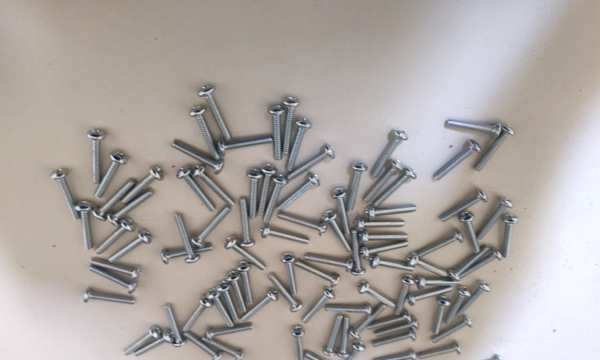longscrew: (432, 141, 480, 189), (175, 165, 216, 217), (88, 178, 137, 219), (117, 163, 166, 204), (170, 140, 224, 177), (196, 165, 238, 212), (414, 228, 465, 265), (190, 103, 220, 165), (369, 128, 406, 178), (273, 174, 319, 214), (187, 207, 234, 246), (200, 84, 231, 143), (46, 167, 79, 221), (475, 127, 514, 171), (474, 197, 512, 242), (287, 144, 337, 178), (439, 190, 487, 225), (370, 171, 416, 206), (90, 154, 129, 195), (361, 163, 402, 202), (105, 192, 156, 223), (217, 133, 275, 160), (283, 118, 313, 169), (460, 249, 501, 285), (163, 243, 217, 270), (226, 237, 267, 272), (90, 222, 135, 253), (109, 232, 154, 263), (452, 247, 491, 281), (355, 282, 396, 314), (90, 255, 140, 281), (323, 210, 353, 253), (83, 129, 106, 185), (458, 280, 491, 319), (240, 288, 280, 320), (265, 175, 291, 224), (182, 296, 216, 333), (269, 274, 302, 312), (298, 292, 336, 325), (90, 268, 136, 295), (430, 320, 470, 351), (176, 210, 198, 266), (407, 287, 455, 312), (351, 305, 385, 340), (164, 300, 187, 351), (266, 102, 285, 163), (280, 96, 299, 157), (443, 120, 504, 139), (278, 214, 328, 237), (124, 326, 163, 355), (135, 329, 174, 358), (205, 324, 256, 346), (344, 160, 365, 212), (296, 262, 338, 287), (367, 203, 419, 223), (375, 320, 420, 343), (234, 262, 258, 305), (363, 242, 412, 263), (184, 333, 222, 360), (443, 288, 470, 326), (459, 212, 481, 258), (408, 254, 450, 278), (262, 226, 312, 246), (213, 283, 240, 320), (372, 330, 415, 353), (209, 291, 236, 327), (222, 273, 249, 309), (326, 302, 377, 321), (202, 337, 244, 360), (332, 186, 350, 239), (76, 199, 95, 249), (366, 314, 413, 334), (258, 167, 275, 222), (394, 275, 414, 320), (301, 255, 359, 270), (285, 324, 309, 360), (280, 251, 298, 298), (85, 291, 138, 306), (501, 215, 519, 259), (322, 317, 342, 356), (349, 230, 365, 277), (417, 343, 461, 360), (432, 297, 452, 334), (357, 220, 410, 233), (418, 279, 465, 293), (248, 168, 260, 219), (362, 232, 409, 245), (337, 317, 352, 357), (241, 197, 252, 248), (370, 261, 415, 272), (338, 344, 366, 360), (371, 351, 419, 360), (305, 353, 348, 360), (460, 355, 507, 360)
